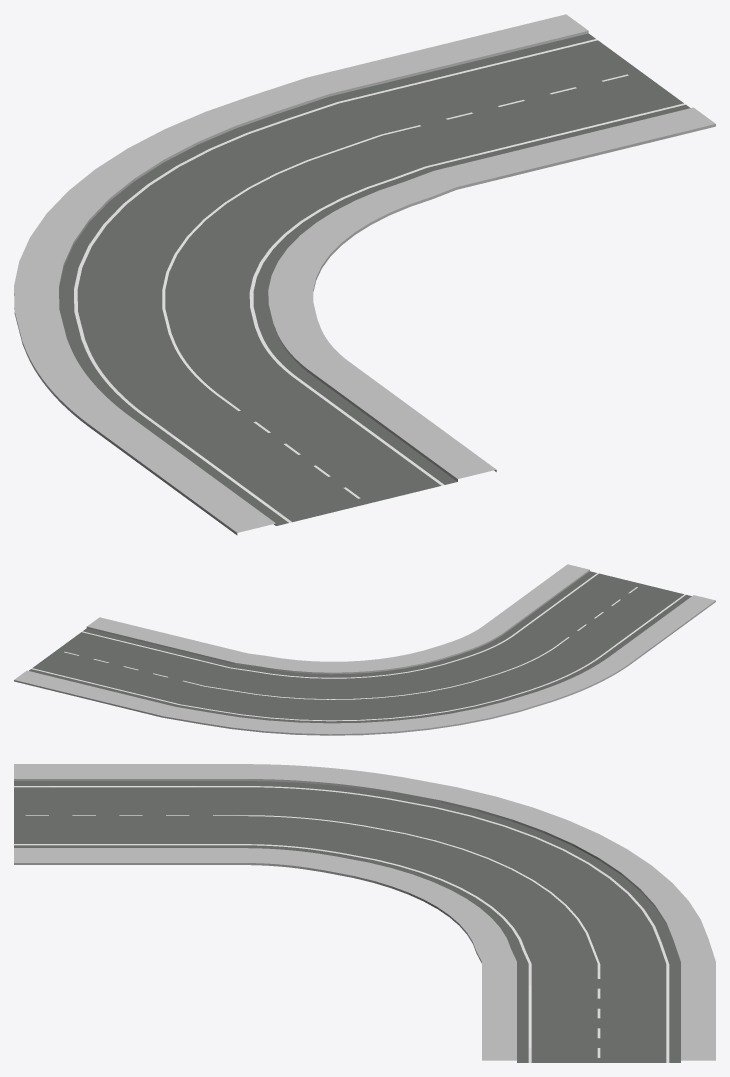
File: Curve_90_Uneven.fbx
The picture shows the model from 3 angles, top to bottom: view 1: azimuth 30°, elevation 25°; view 2: azimuth 150°, elevation 25°; view 3: azimuth 270°, elevation 25°; orthographic projection. The views are drawn at different scales.
Parts seen in each view (by area): view 1: Plane; view 2: Plane; view 3: Plane.
Part boxes in pixels (<box>): Plane: <box>14,14,715,535</box>; Plane: <box>14,564,715,735</box>; Plane: <box>14,764,715,1062</box>.
Bounding box in the file's own units: 45 × 0.15 × 45.
